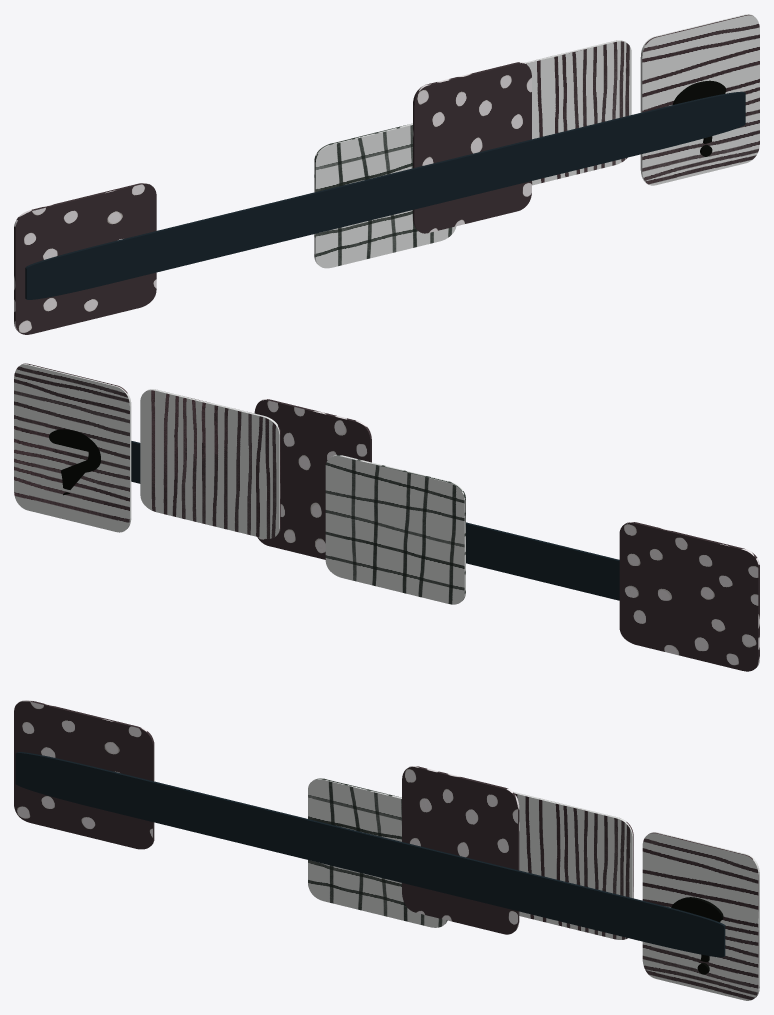
File: 030_Shadows_Frame_1.fbx
3 views of the same model, one above another, from view 1: azimuth 30°, elevation 25°; view 2: azimuth 150°, elevation 25°; view 3: azimuth 330°, elevation 25° (orthographic).
Visible parts, largest first — view 1: CHIP2.066, CHIP2.067, CHIP2.068, CHIP2.064, CHIP2.063, CHIP2.065, Curve.006; view 2: CHIP2.064, CHIP2.063, CHIP2.065, CHIP2.068, CHIP2.067, CHIP2.066, Curve.006; view 3: CHIP2.066, CHIP2.068, CHIP2.067, CHIP2.064, CHIP2.065, CHIP2.063, Curve.006.
Boxes of the visible parts, <box> form: CHIP2.066: <box>25,91,745,299</box>; CHIP2.067: <box>413,62,531,233</box>; CHIP2.068: <box>640,14,759,185</box>; CHIP2.064: <box>14,183,156,334</box>; CHIP2.063: <box>314,123,456,268</box>; CHIP2.065: <box>524,40,631,185</box>; Curve.006: <box>672,80,726,156</box>; CHIP2.064: <box>619,522,759,671</box>; CHIP2.063: <box>325,455,465,604</box>; CHIP2.065: <box>140,389,280,538</box>; CHIP2.068: <box>14,363,131,532</box>; CHIP2.067: <box>254,399,371,559</box>; CHIP2.066: <box>131,441,619,600</box>; Curve.006: <box>49,429,100,495</box>; CHIP2.066: <box>15,752,725,957</box>; CHIP2.068: <box>642,832,759,1000</box>; CHIP2.067: <box>402,766,519,934</box>; CHIP2.064: <box>14,700,154,849</box>; CHIP2.065: <box>513,791,633,939</box>; CHIP2.063: <box>308,778,447,927</box>; Curve.006: <box>671,897,723,974</box>.
Bounding box in the file's own units: 551 × 115 × 15.13.
